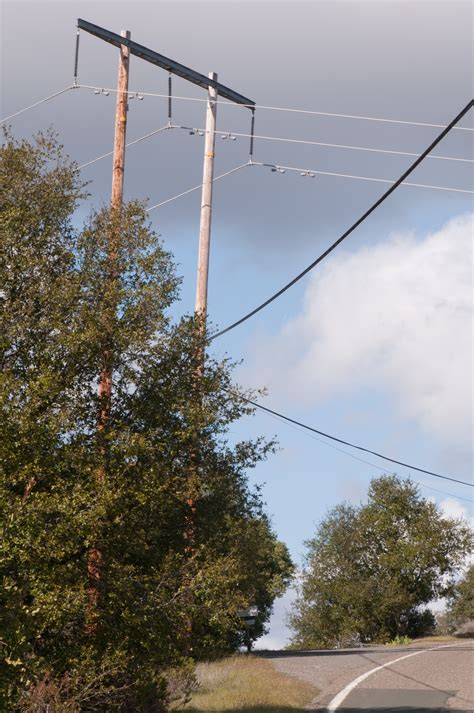pole: (64, 12, 292, 430)
